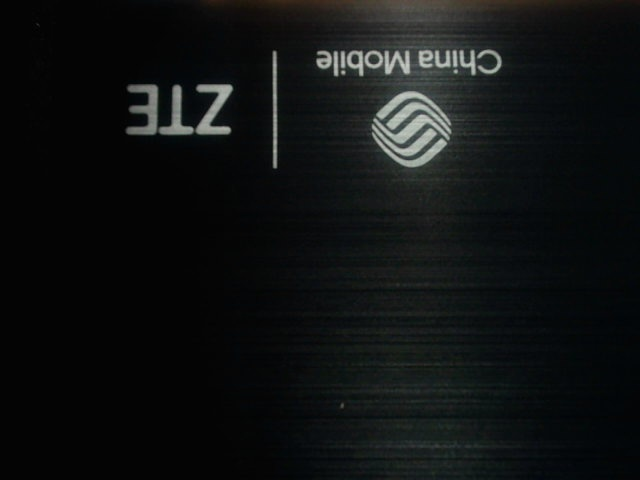AL_ZTEChinaMobile: (110, 29, 514, 181)
